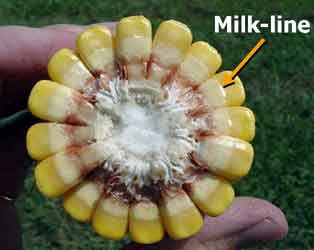corn: (26, 15, 257, 245)
